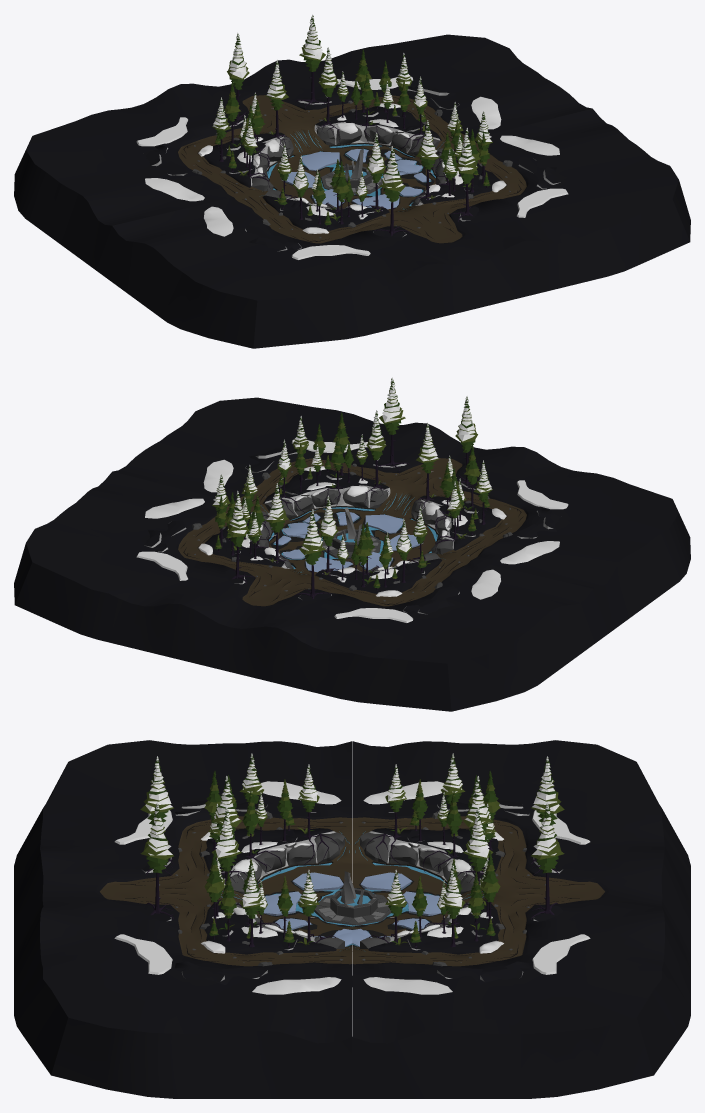
Rendered from Map_04.FBX.
3 renders of one model, top to bottom at view 1: azimuth 30°, elevation 25°; view 2: azimuth 150°, elevation 25°; view 3: azimuth 270°, elevation 25°, orthographic. The views are drawn at different scales.
Parts seen in each view (by area): view 1: Map; view 2: Map; view 3: Map.
Boxes of the visible parts, <box> form: Map: <box>14,14,690,348</box>; Map: <box>14,377,690,711</box>; Map: <box>14,740,690,1098</box>.
Size of the model in its own units: 1142 by 273 by 1035.
